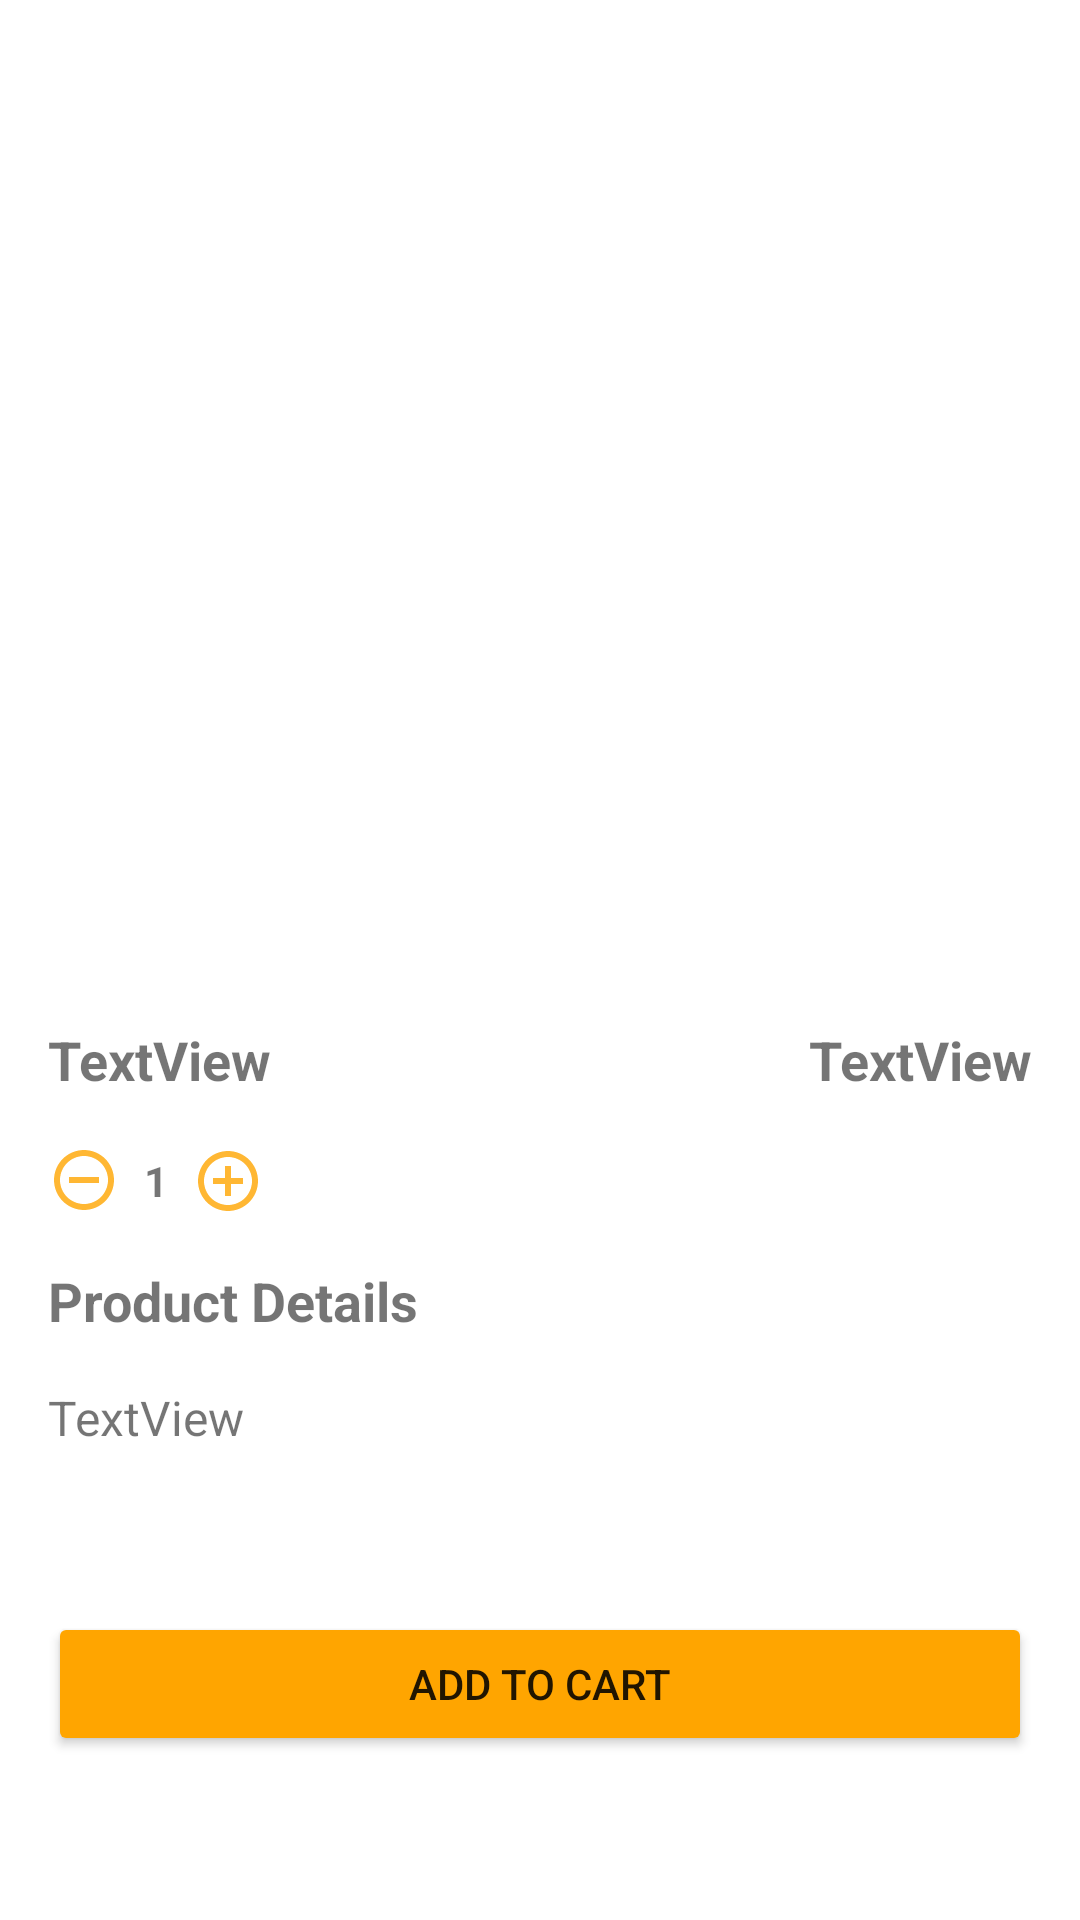

Locate icon controls on the screen. Image size 1080×1920, boxes as (x1=x1, y1=y1, x2=x2, y2=y2).
circle add: (x1=198, y1=1151, x2=258, y2=1211)
circle remove: (x1=54, y1=1150, x2=114, y2=1210)
